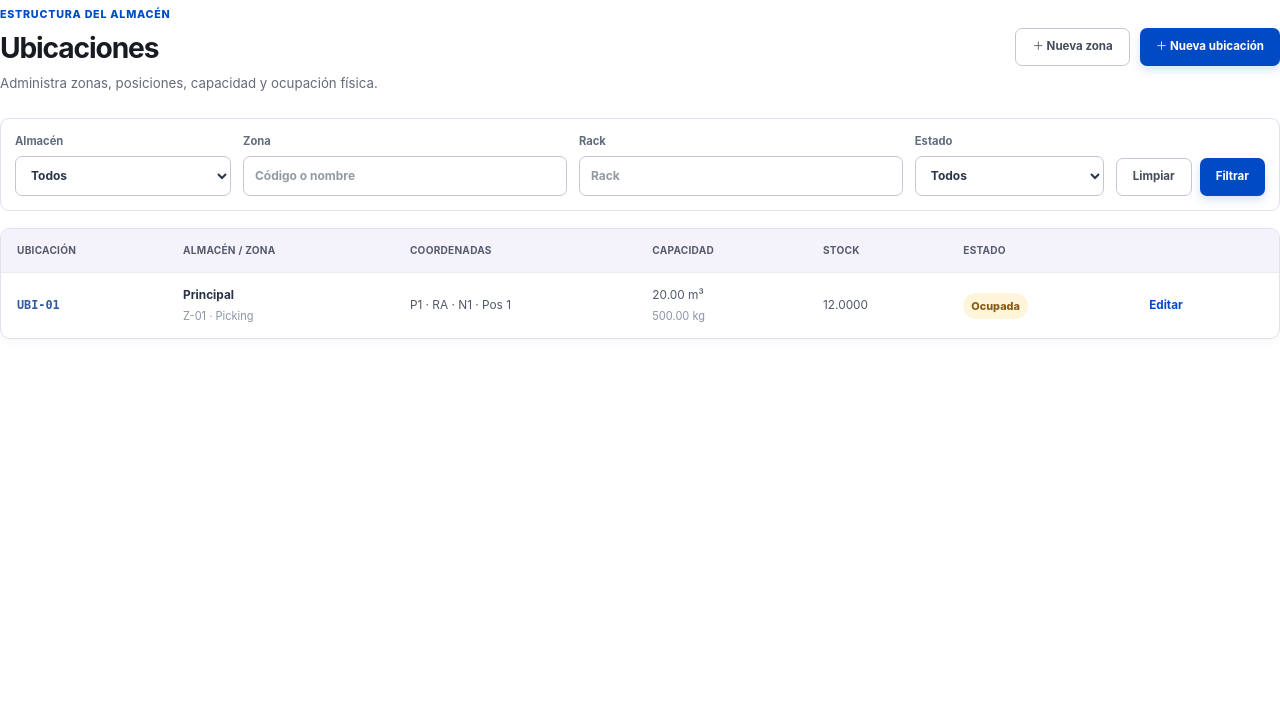
Test: LocationsPage › does not allow disabling an occupied location in the form
Expected: the text "UBI-01" is shown, [17,298,60,312]
Click the button "Editar": [1166, 306] box [1139,291,1193,320]
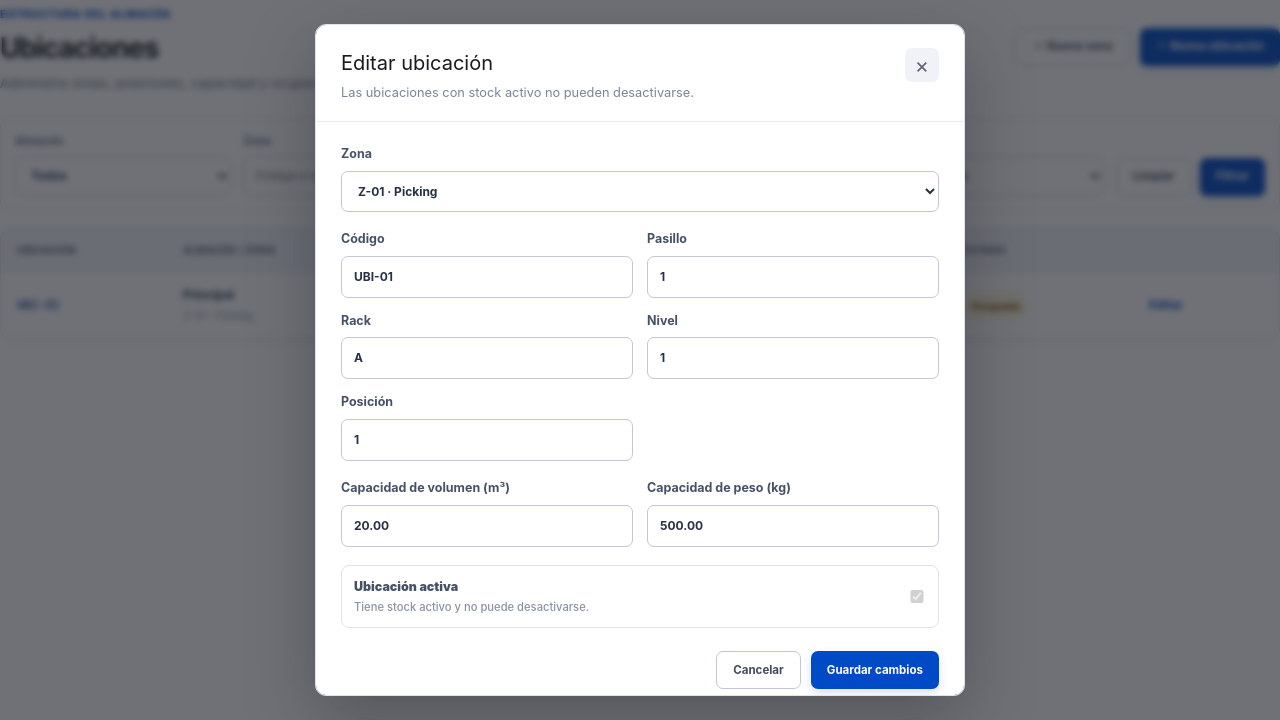
Result: the checkbox labelled "Ubicación activa Tiene stock activo y no puede desactivarse." is disabled at [908,590,926,603]
Result: the text "Tiene stock activo y no puede desactivarse." is shown at [354,598,589,615]
